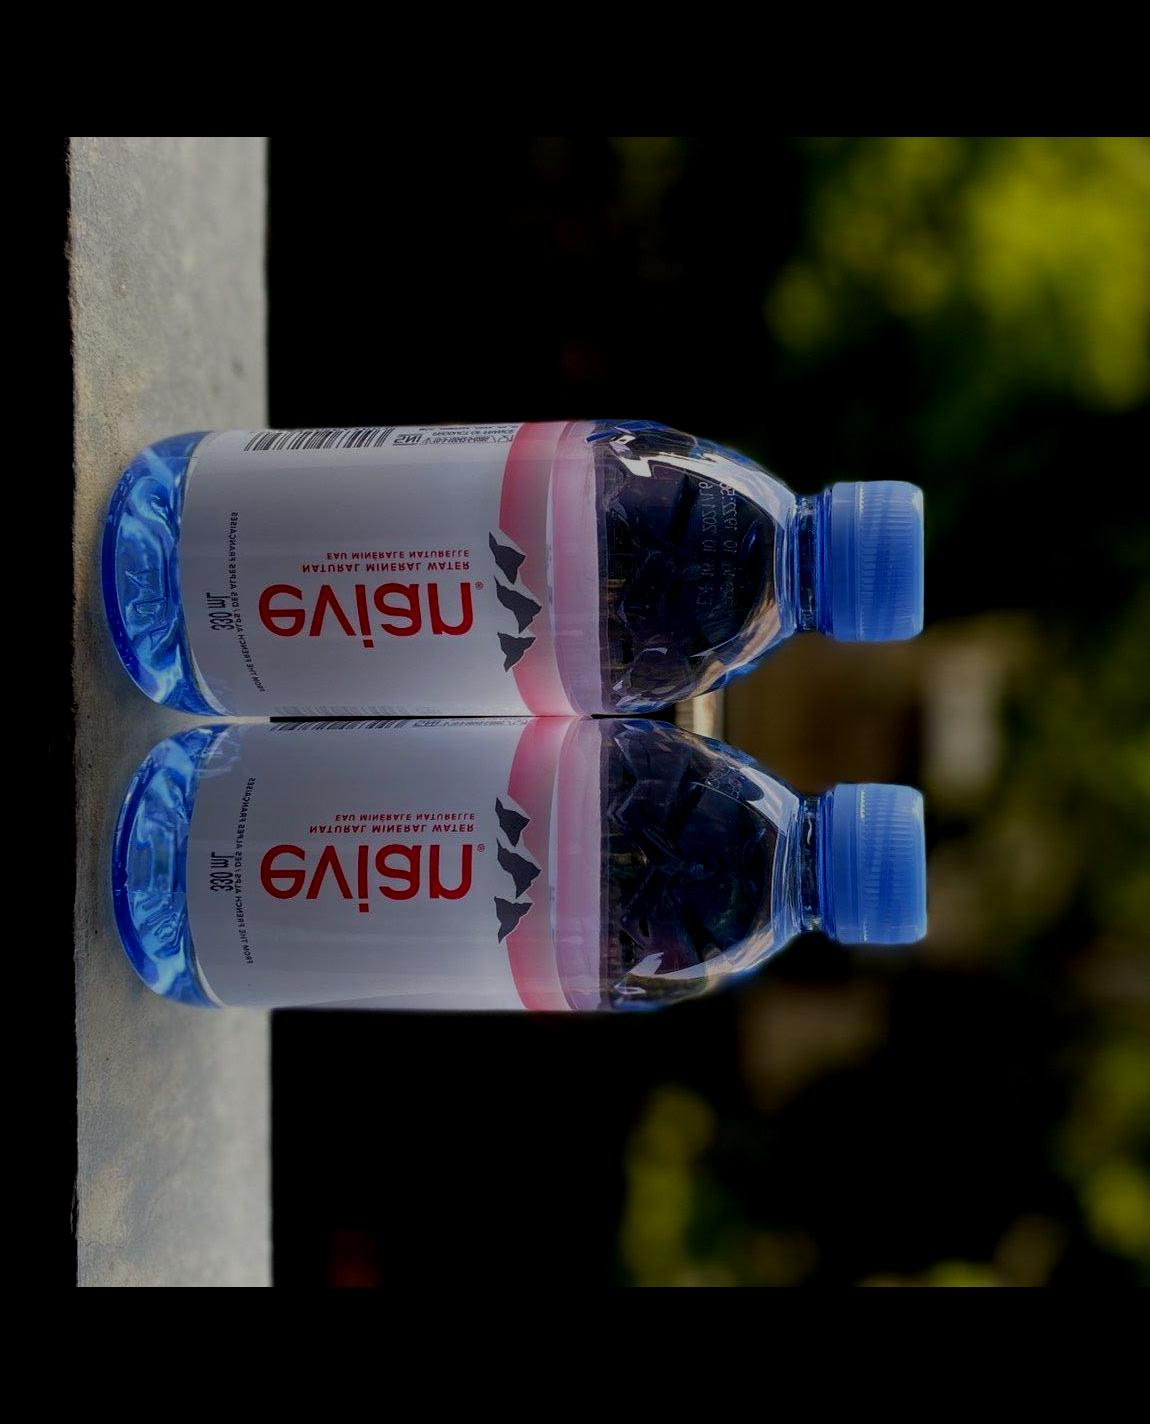bottle: (82, 402, 940, 732), (99, 698, 948, 1028)
